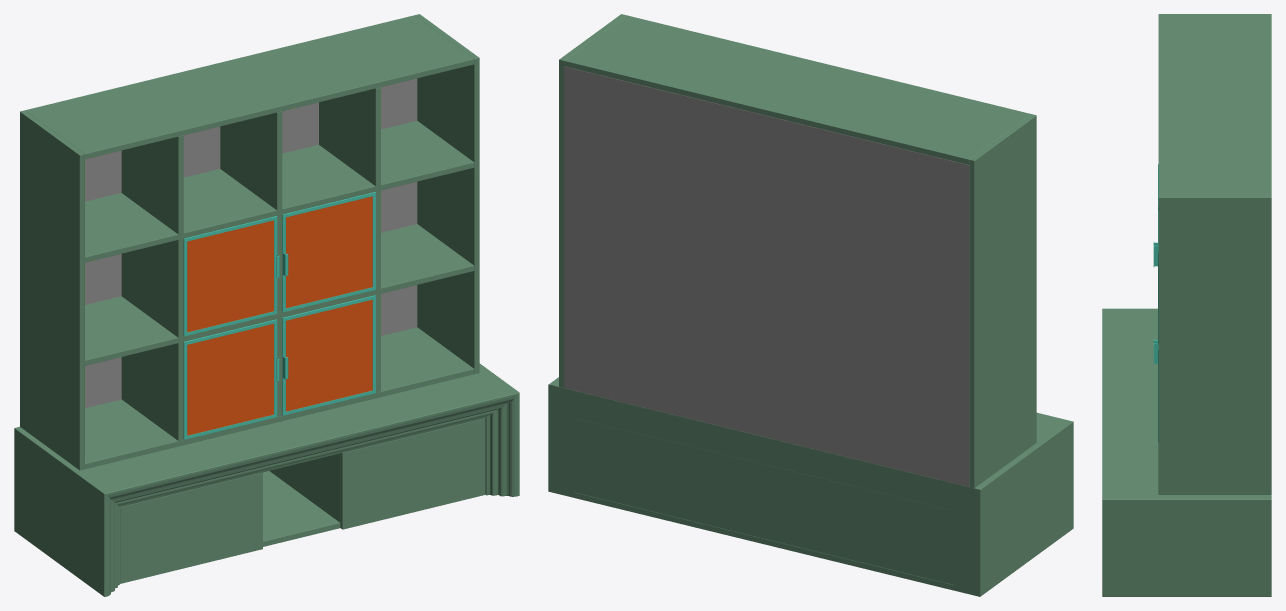
File: House_SideCabinet.FBX
3 views of the same model, side by side, from view 1: azimuth 30°, elevation 25°; view 2: azimuth 150°, elevation 25°; view 3: azimuth 270°, elevation 25° (orthographic). The views are drawn at different scales.
Visible parts, largest first — view 1: House_SideCabinet_Wood, House_SideCabinet_Yellow, House_SideCabinet_White, House_SideCabinet_Metal; view 2: House_SideCabinet_White, House_SideCabinet_Wood; view 3: House_SideCabinet_Wood, House_SideCabinet_Metal.
Boxes of the visible parts, box(x1,y1,x2,y2) form: House_SideCabinet_Wood: box(14, 14, 519, 596); House_SideCabinet_Yellow: box(187, 196, 372, 435); House_SideCabinet_White: box(85, 78, 417, 408); House_SideCabinet_Metal: box(183, 192, 375, 439); House_SideCabinet_White: box(564, 66, 969, 486); House_SideCabinet_Wood: box(548, 14, 1073, 596); House_SideCabinet_Wood: box(1102, 14, 1271, 596); House_SideCabinet_Metal: box(1153, 164, 1158, 441).
Size of the model in its own units: 146 by 140 by 54.7.
